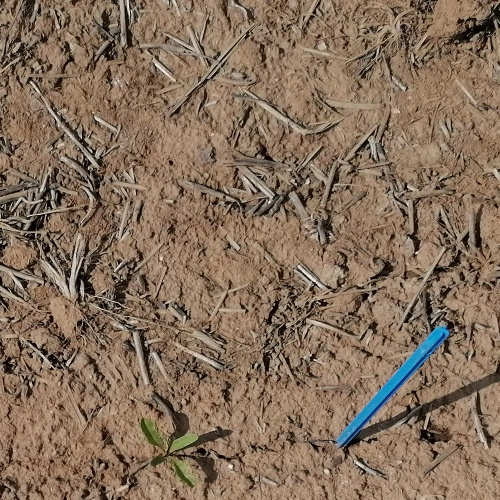beet: (142, 419, 198, 489)
